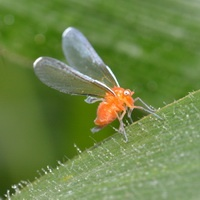insect: (33, 27, 160, 141)
